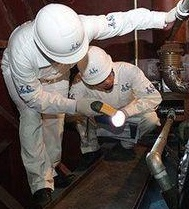boots: (76, 147, 103, 171), (104, 142, 136, 161)
gloves: (76, 97, 103, 118), (165, 0, 189, 23)
hard-hat: (77, 45, 113, 85)
ppe-suit: (68, 47, 163, 161)
